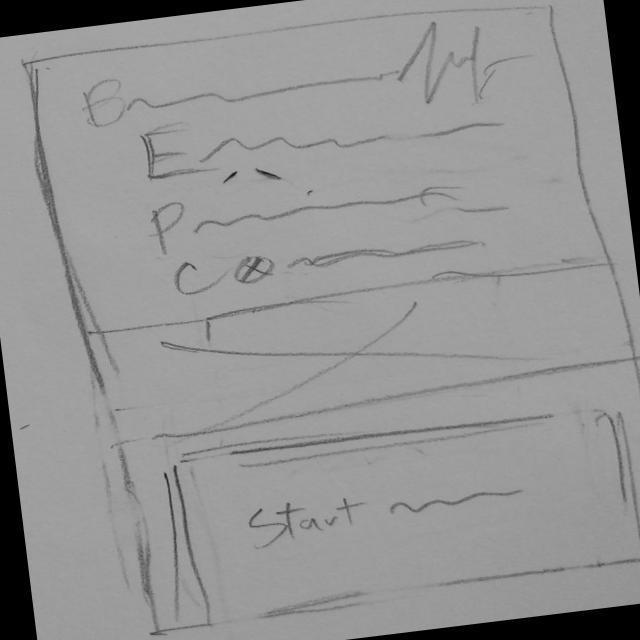container: (17, 1, 617, 341), (158, 396, 640, 622)
image: (76, 251, 640, 449)
label: (73, 25, 516, 137), (124, 80, 524, 194), (141, 163, 475, 262), (158, 215, 494, 308), (229, 487, 372, 556)
text: (387, 485, 536, 521)
